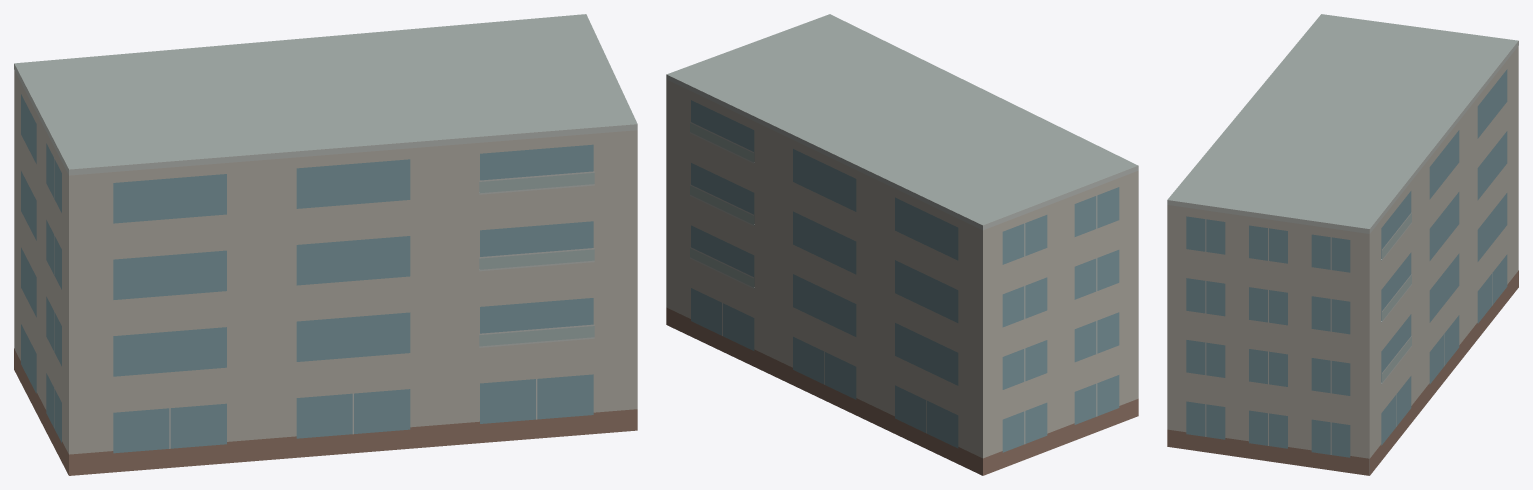
Rendered from survey-upis-32744930.glb.
3 renders of one model, left to right at view 1: azimuth 30°, elevation 25°; view 2: azimuth 150°, elevation 25°; view 3: azimuth 270°, elevation 25°, orthographic. The views are drawn at different scales.
Visible parts, largest first — view 1: survey-upis-32744930.tmp; view 2: survey-upis-32744930.tmp; view 3: survey-upis-32744930.tmp.
Part boxes in pixels (x1,y1,x2,y2): survey-upis-32744930.tmp: (14, 14, 637, 475); survey-upis-32744930.tmp: (666, 14, 1138, 475); survey-upis-32744930.tmp: (1167, 14, 1518, 475).
Bounding box in the file's own units: 23.2 × 12.4 × 16.02.
